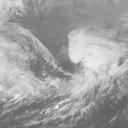cyclone: (67, 29, 121, 74)
